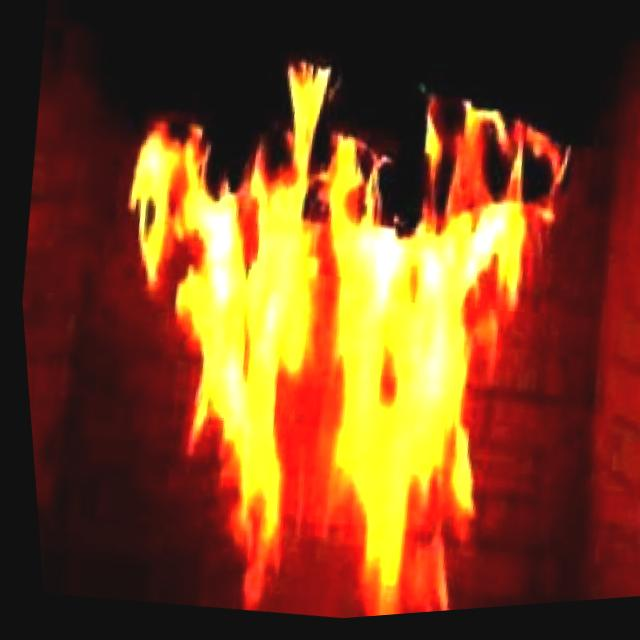helmet: (44, 11, 617, 638)
